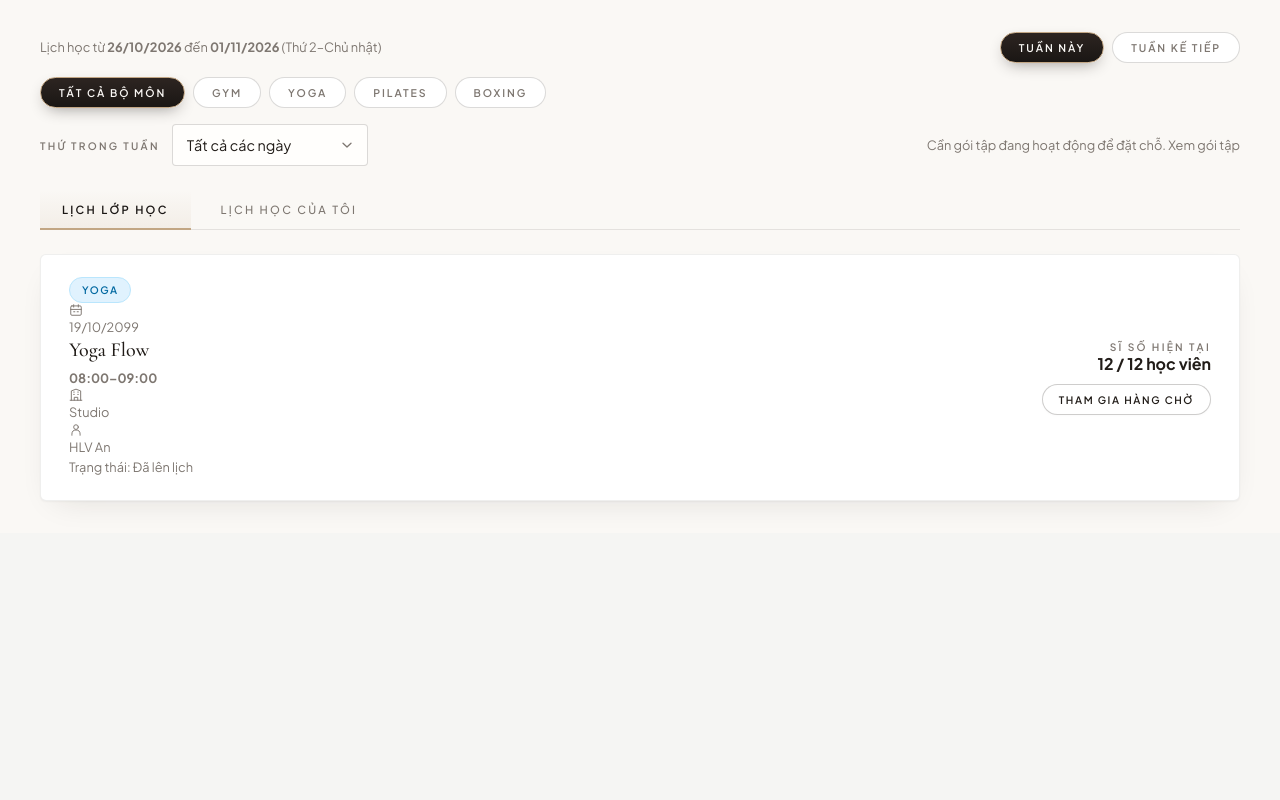
Scenario: MemberClassesPage › clears rejected waitlist error when the week changes
The image size is (1280, 800).
Click the button "Tham gia hàng chờ" at {"x": 1126, "y": 399}, box 1042,384 -> 1211,415
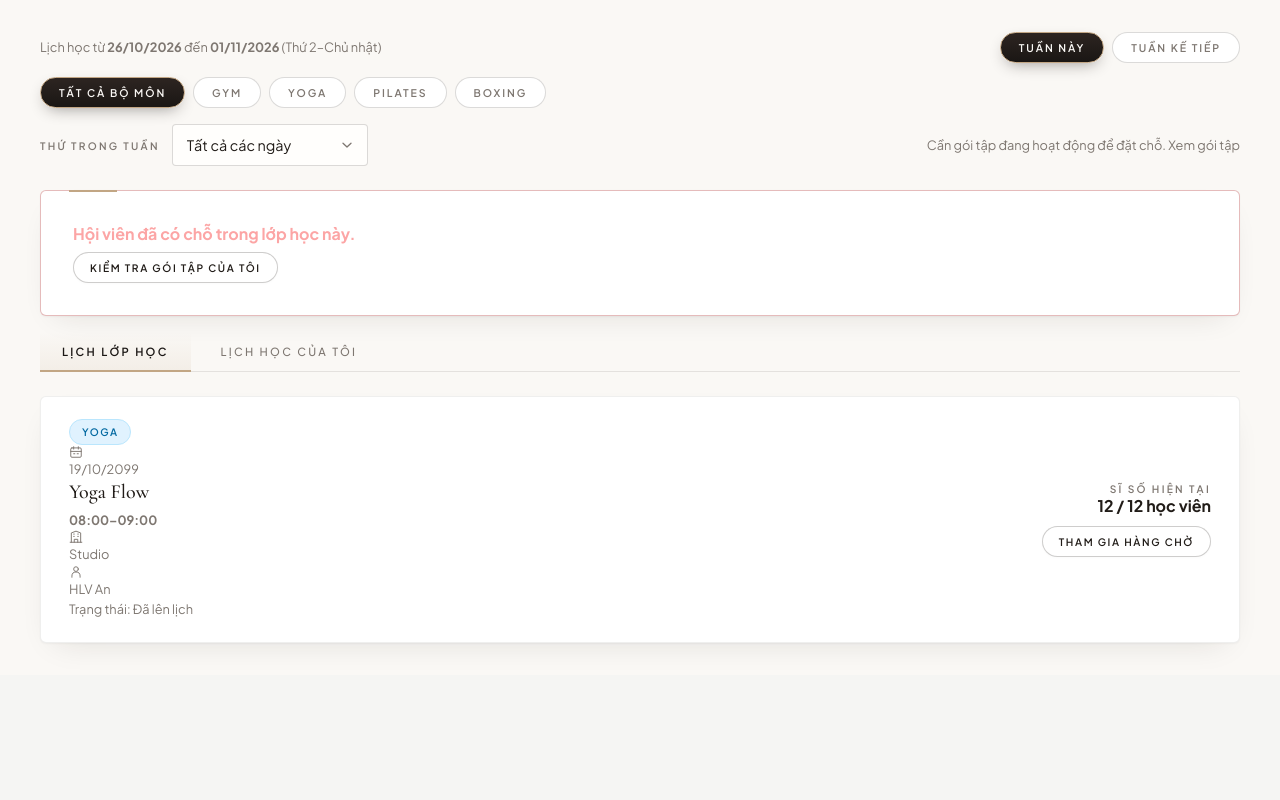
Result: the text "Hội viên đã có chỗ trong lớp học này." is shown at 73,223 -> 356,244
Click the button "Tuần kế tiếp" at {"x": 1176, "y": 48}, box 1112,32 -> 1240,63
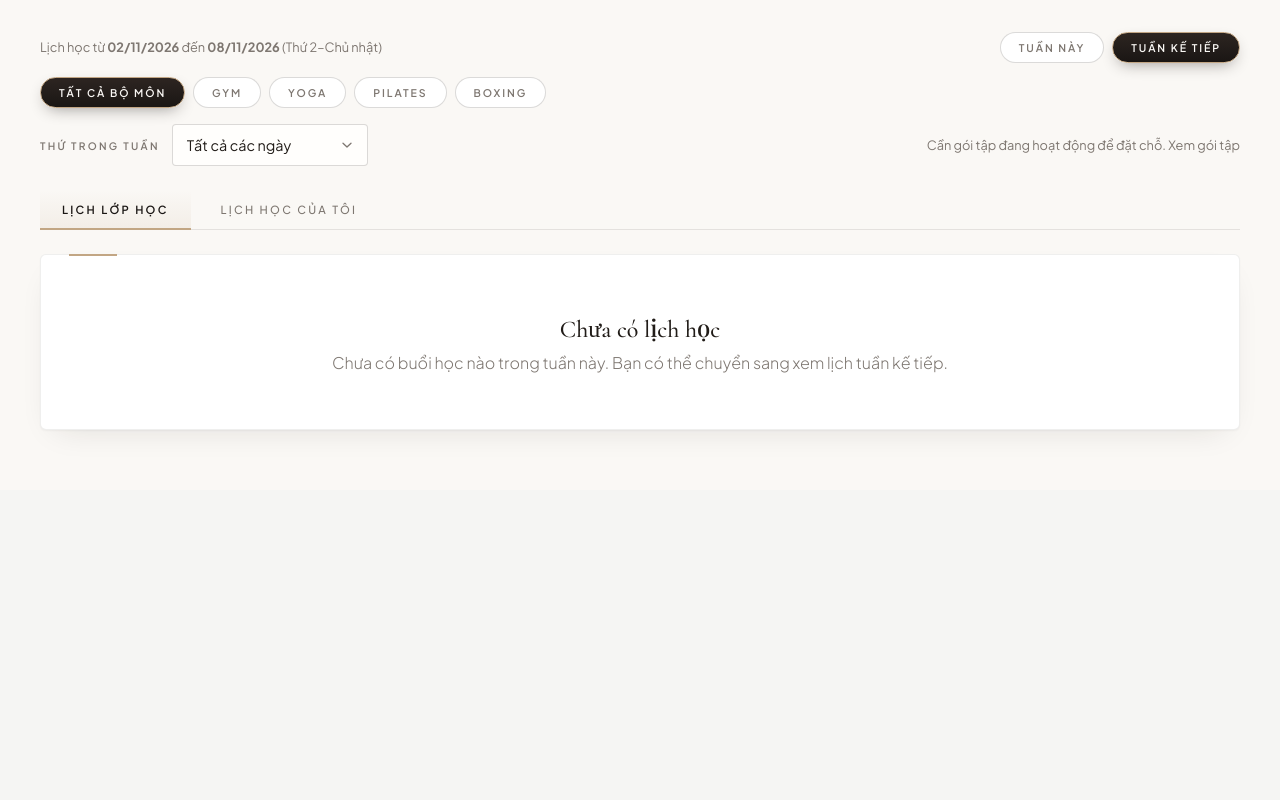
Result: the text "Chưa có lịch học" is shown at 560,315 -> 720,344
Result: the text "Hội viên đã có chỗ trong lớp học này." is gone
